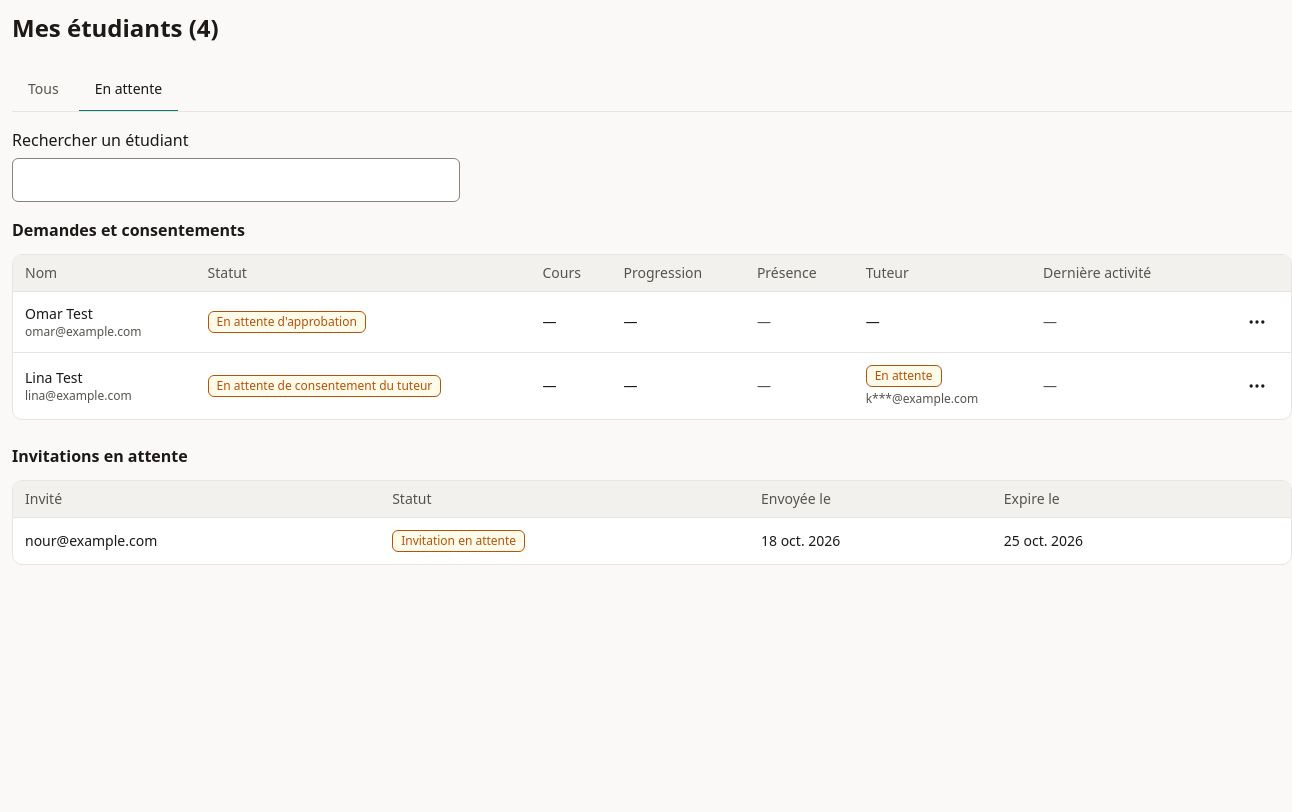
StudentsPanel › a suspended workspace offers no write action
Expected: the text "Omar Test" is shown, [25,304,93,323]
Click the button named "Actions pour Omar Test" at (1257, 322), box [1235,300,1279,344]
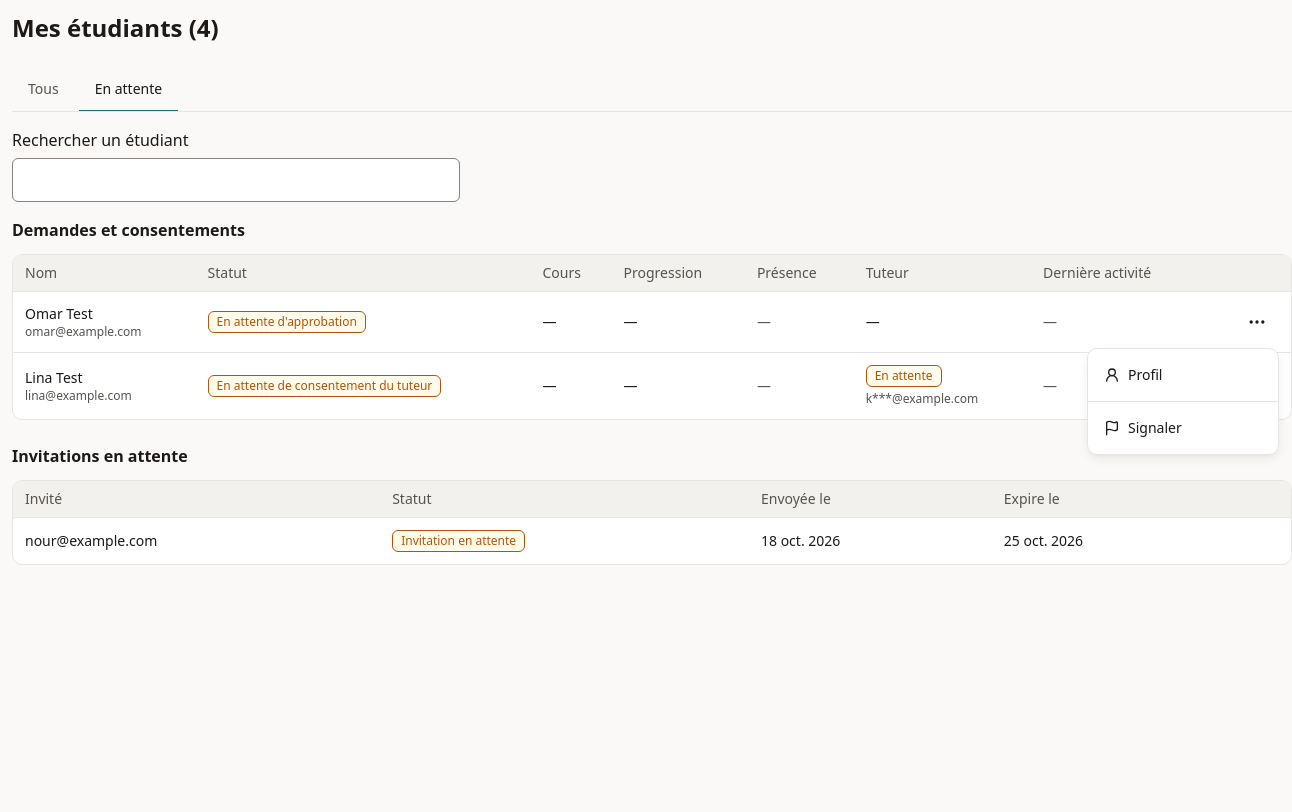
Now the menu item "Signaler" is shown, box [1104,418,1182,437]
